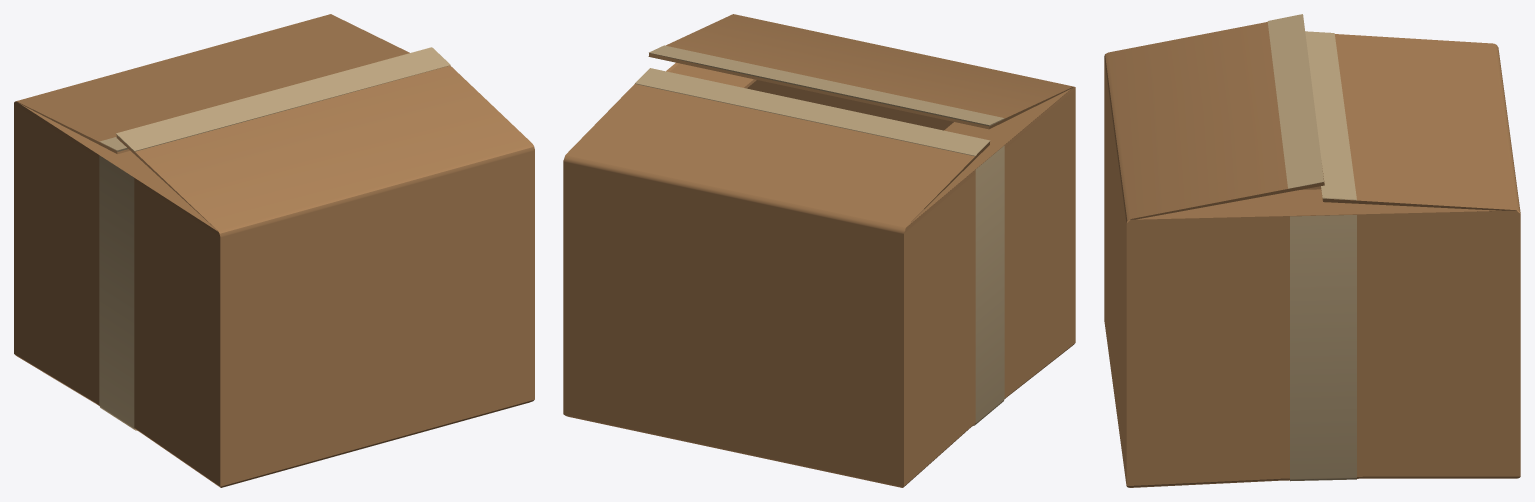
File: koli.fbx
The picture shows the model from 3 angles, left to right: view 1: azimuth 30°, elevation 25°; view 2: azimuth 150°, elevation 25°; view 3: azimuth 270°, elevation 25°; orthographic projection. The views are drawn at different scales.
Visible parts, largest first — view 1: koli anim; view 2: koli anim; view 3: koli anim.
Part boxes in pixels (x1,y1,x2,y2): koli anim: [14, 14, 534, 487]; koli anim: [563, 14, 1075, 487]; koli anim: [1104, 14, 1520, 487].
Bounding box in the file's own units: 11.66 × 9.38 × 11.64.
